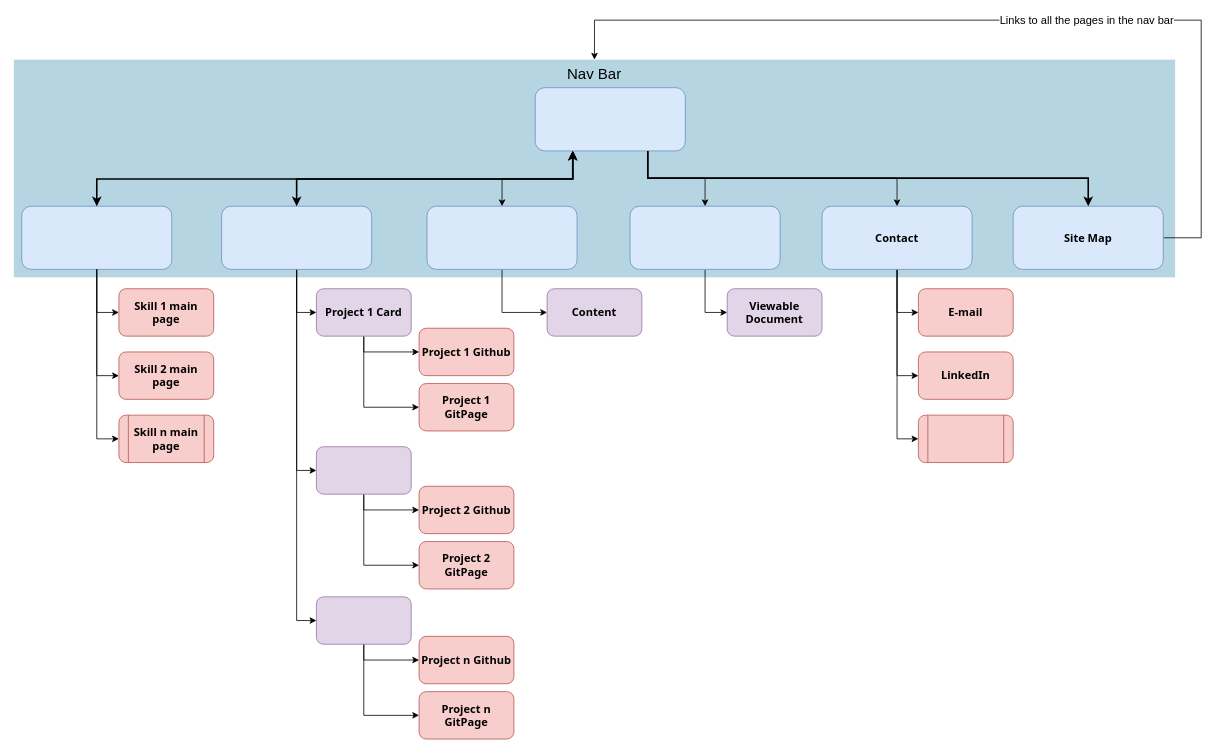
Image size: 1221x753. Some labels were removed from this diagram. The centre of each missing label's shape, as x and y in pixels:
"About Me" belongs at point (501, 237).
"Github" belongs at point (965, 438).
"Home Page" belongs at point (609, 119).
"Project 2 Card" belongs at point (363, 470).
"Project n Card" belongs at point (363, 620).
"Projects" belongs at point (296, 237).
"Resume" belongs at point (704, 237).
"Skills" belongs at point (96, 237).
